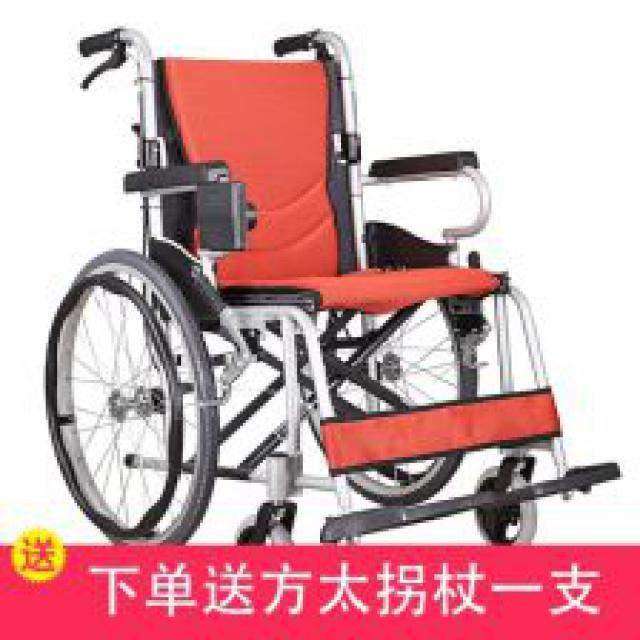wheelchair: (37, 26, 637, 543)
